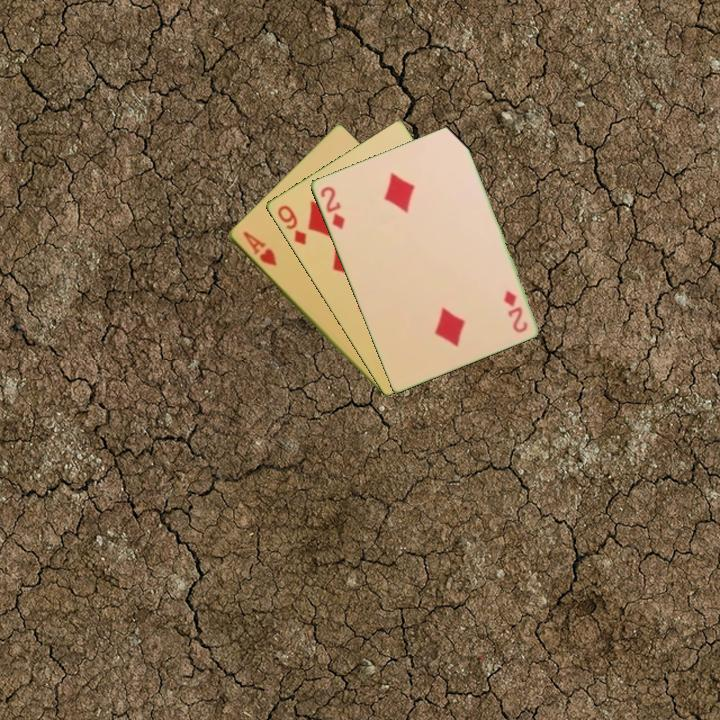2d: (316, 183, 347, 232), (500, 287, 530, 336)
9d: (273, 201, 309, 248)
Ah: (239, 228, 279, 269)
